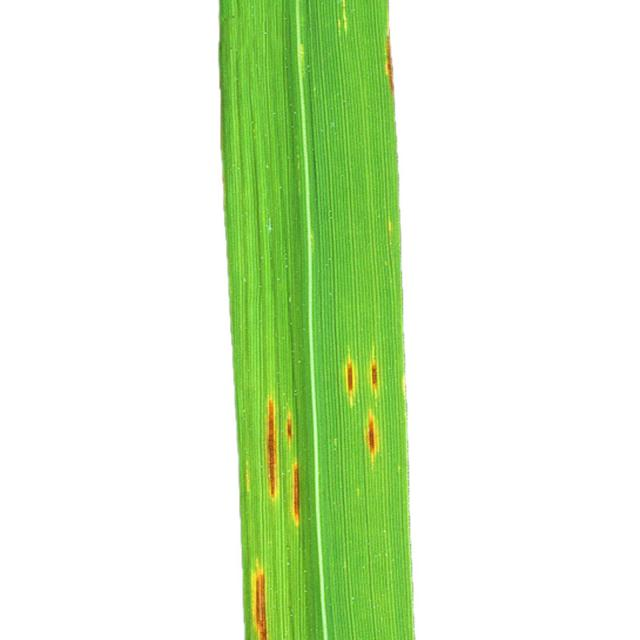Narrow brown: (178, 0, 452, 640)
